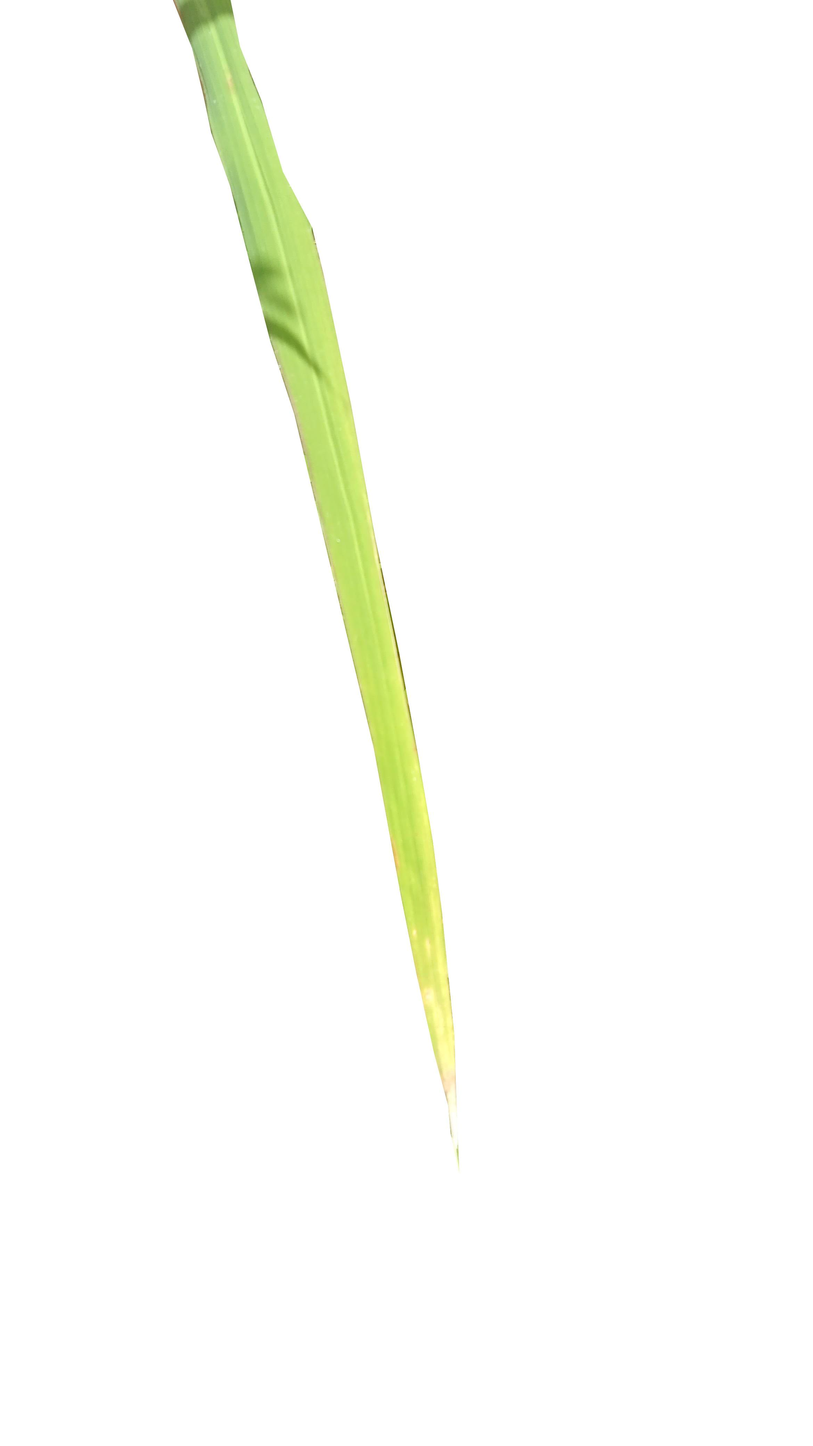Tungro: (231, 165, 457, 1107)
